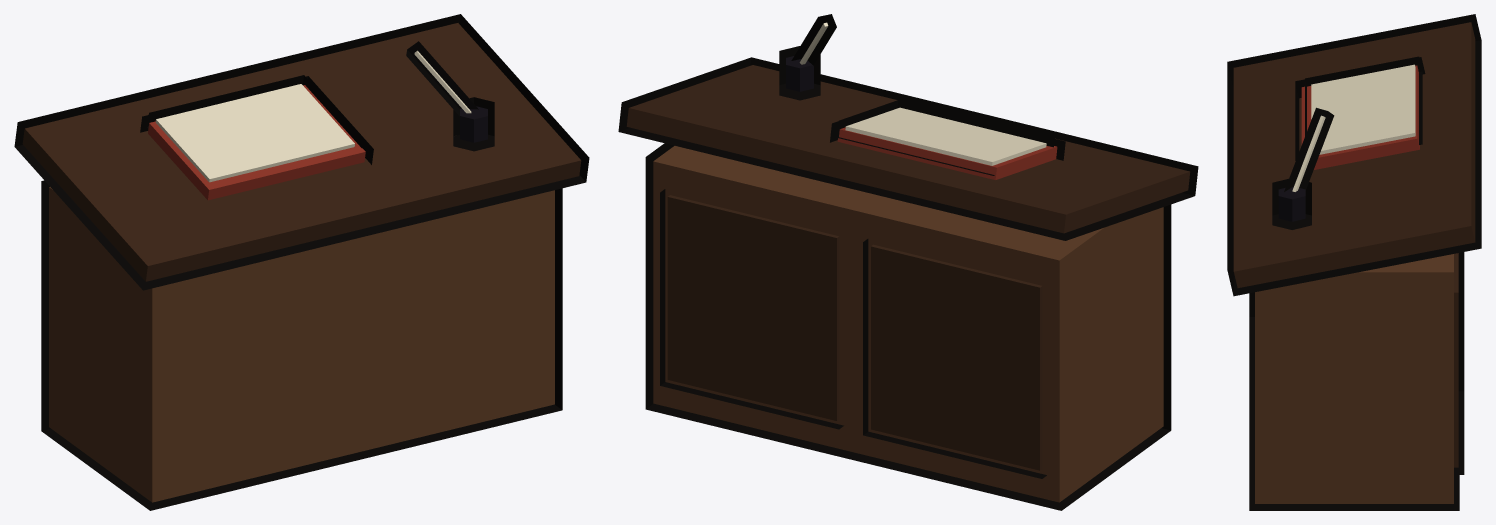
File: counter.glb
3 views of the same model, side by side, from view 1: azimuth 30°, elevation 25°; view 2: azimuth 150°, elevation 25°; view 3: azimuth 270°, elevation 25° (orthographic). The views are drawn at different scales.
Parts seen in each view (by area): view 1: Prop_town_desk; view 2: Prop_town_desk; view 3: Prop_town_desk.
Boxes of the visible parts, x1=… form: Prop_town_desk: x1=14, y1=14, x2=589, y2=510; Prop_town_desk: x1=618, y1=14, x2=1198, y2=510; Prop_town_desk: x1=1227, y1=14, x2=1481, y2=510.
Size of the model in its own units: 1.58 by 1.25 by 0.8165.
